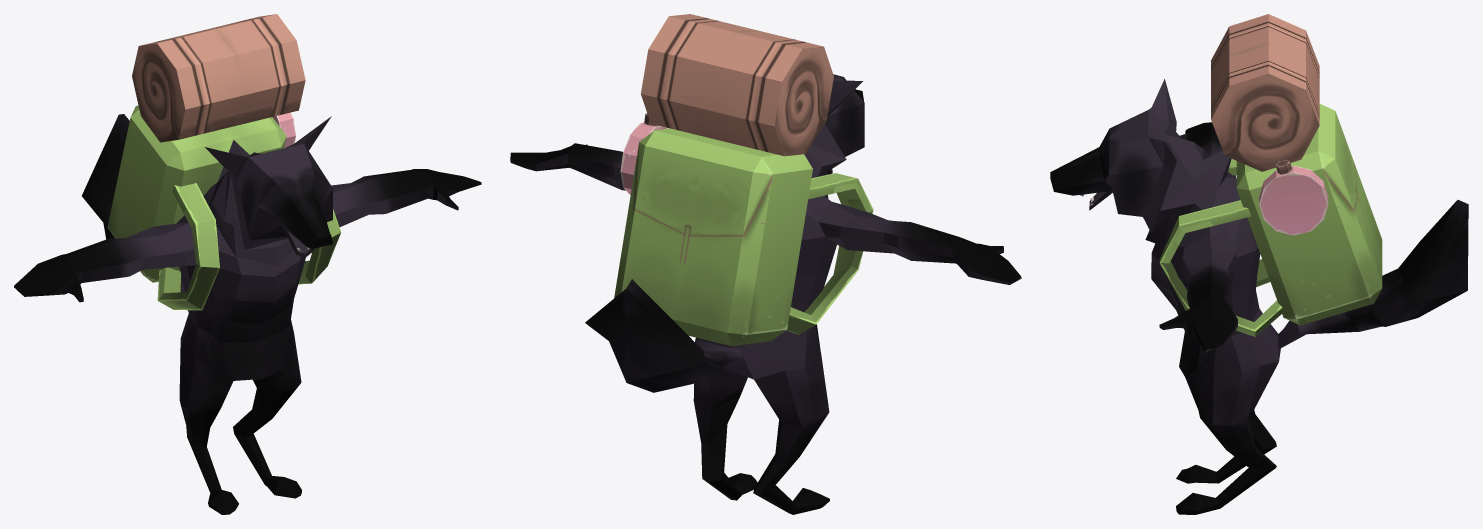
The model's file is Lobizón para subir2.fbx.
The picture shows the model from 3 angles, left to right: view 1: azimuth 30°, elevation 25°; view 2: azimuth 150°, elevation 25°; view 3: azimuth 270°, elevation 25°; orthographic projection. The views are drawn at different scales.
Parts seen in each view (by area): view 1: Cylinder.001, Cube; view 2: Cube, Cylinder.001; view 3: Cylinder.001, Cube.
Boxes of the visible parts, x1,y1,x2,y2 form: Cylinder.001: (14,114,481,514); Cube: (107,14,341,310); Cube: (614,14,873,346); Cylinder.001: (510,74,1021,514); Cylinder.001: (1050,79,1468,514); Cube: (1159,14,1382,336).
Bounding box in the file's own units: 217 × 202 × 169.
2 materials, 2 textured.
